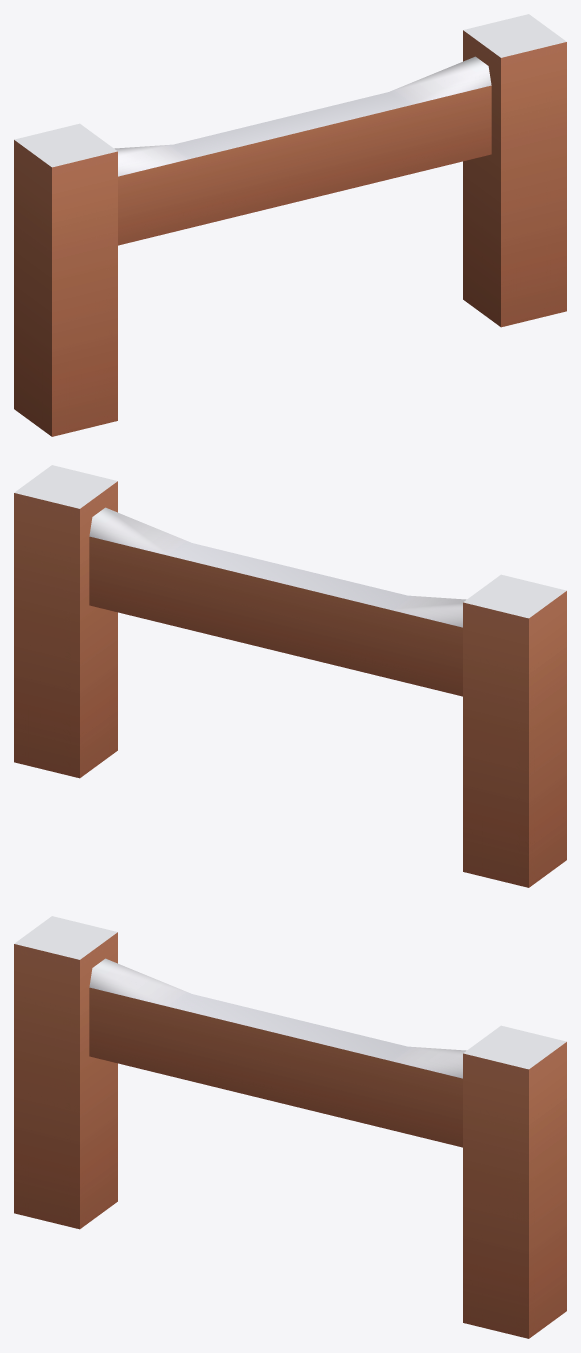
File: snow-wood-structure-part.glb
3 views of the same model, one above another, from view 1: azimuth 30°, elevation 25°; view 2: azimuth 150°, elevation 25°; view 3: azimuth 330°, elevation 25° (orthographic).
Visible parts, largest first — view 1: snow-wood-structure-part; view 2: snow-wood-structure-part; view 3: snow-wood-structure-part.
Boxes of the visible parts, x1,y1,x2,y2 form: snow-wood-structure-part: [14, 14, 566, 436]; snow-wood-structure-part: [14, 465, 566, 887]; snow-wood-structure-part: [14, 916, 566, 1338].
Bounding box in the file's own units: 1 × 0.5 × 0.128.
Materials: 1 (1 with a texture image).
